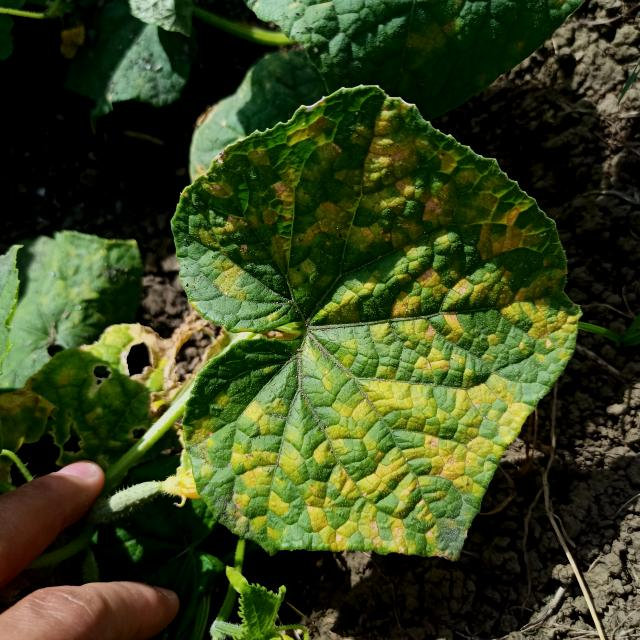disease_cucumber: (186, 102, 572, 548)
